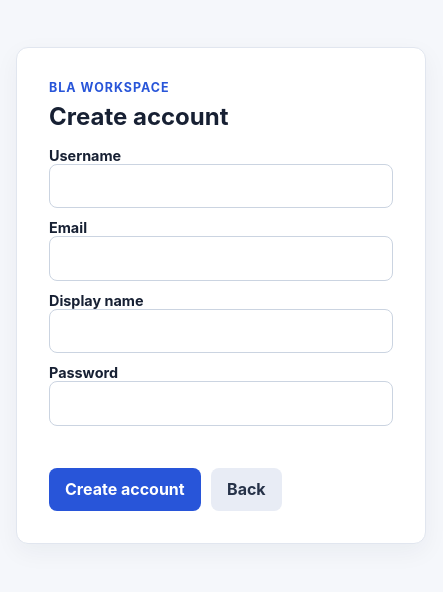
RegistrationPage › duplicateRegistration_ApiReturnsConflict_ShowsClearMessage
Type "new.user" into the field labelled "Username".
click(221, 186); type("new.user")  # box [49,164,393,208]
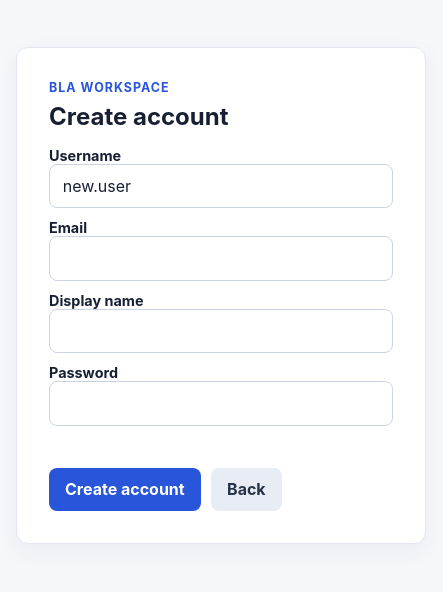
Type "new@bla.local" into the field labelled "Email".
click(221, 258); type("new@bla.local")  # box [49,236,393,281]
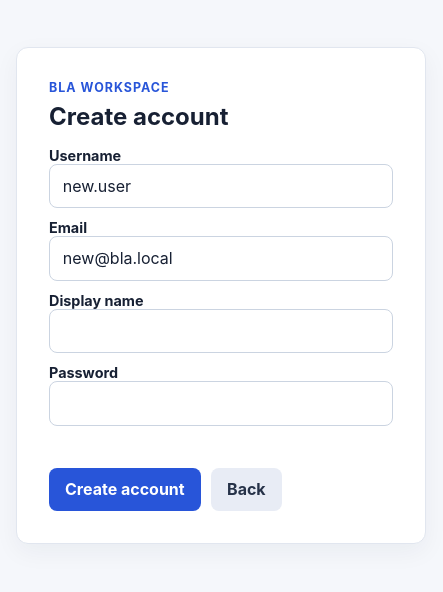
Type "New User" into the field labelled "Display name".
click(221, 331); type("New User")  # box [49,309,393,353]
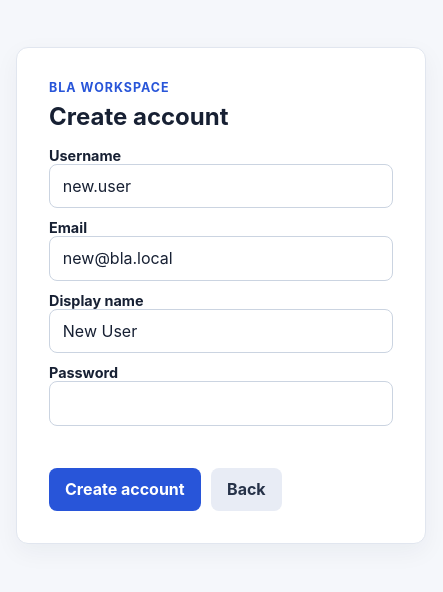
Type "password" into the password field labelled "Password".
click(221, 404); type("password")  # box [49,381,393,426]
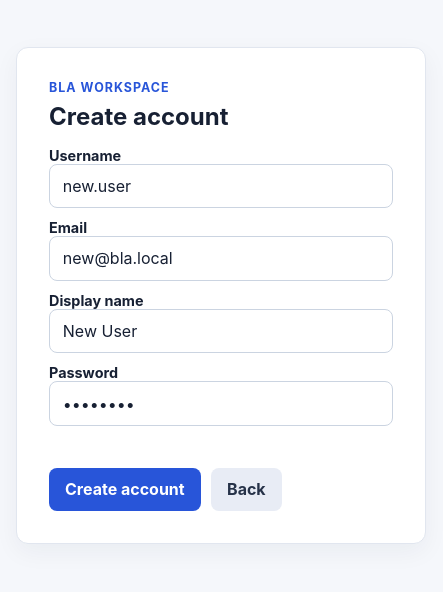
Click the button "Create account".
click(125, 489)  # box [49,468,201,510]
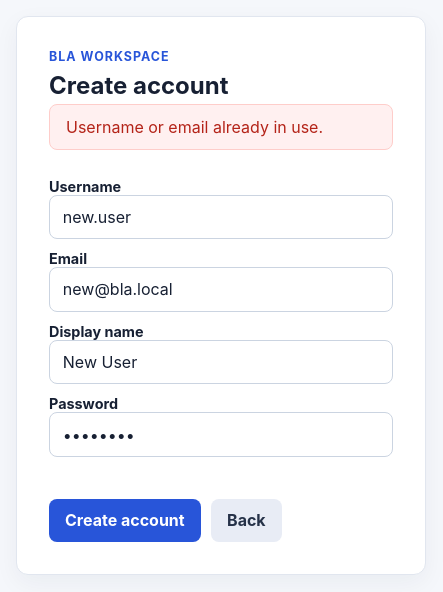
expect the message reads "Username or email already in use.": met, box [66,118,323,138]
